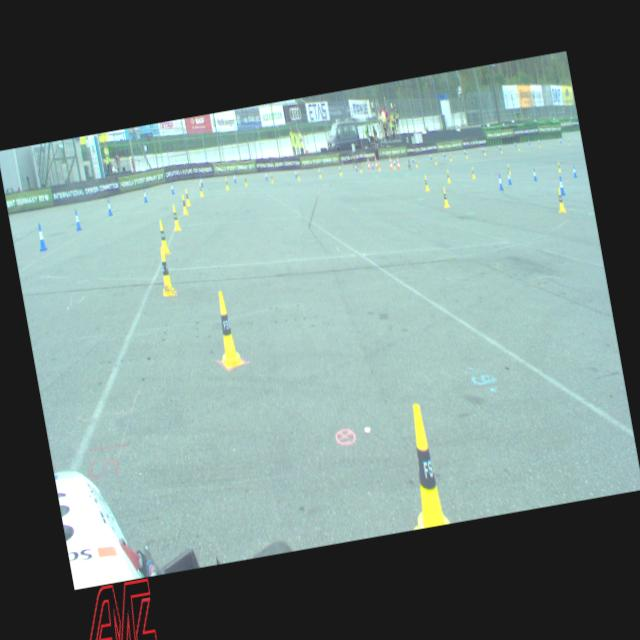blue_cone: (34, 221, 48, 251), (72, 208, 82, 230), (557, 173, 565, 194), (496, 172, 503, 190), (141, 186, 148, 202), (106, 198, 112, 215), (506, 169, 512, 185), (168, 180, 174, 194), (571, 164, 577, 177), (532, 167, 536, 180), (199, 175, 203, 187), (232, 172, 236, 184), (264, 170, 268, 180), (293, 168, 297, 178), (392, 157, 396, 166), (354, 162, 357, 172), (371, 160, 374, 169)
large_orange_cone: (395, 154, 400, 168), (373, 155, 378, 168), (388, 154, 392, 170), (366, 154, 370, 170)
yellow_cone: (392, 400, 449, 530), (209, 289, 243, 369), (154, 246, 176, 296), (158, 219, 170, 254), (554, 186, 566, 213), (170, 203, 181, 230), (440, 186, 450, 208), (180, 193, 188, 216), (183, 188, 190, 205), (422, 174, 429, 190), (198, 182, 204, 196), (242, 174, 248, 187), (445, 168, 450, 182), (556, 160, 561, 173), (224, 176, 228, 189), (470, 166, 474, 178), (270, 172, 274, 183), (296, 169, 300, 180), (317, 168, 321, 178), (358, 162, 362, 172), (338, 164, 341, 176), (376, 161, 379, 170), (414, 158, 417, 166)
